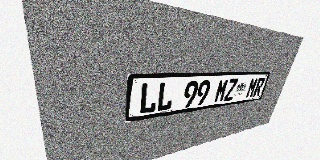9: (182, 80, 200, 108), (194, 80, 212, 106)
L: (138, 82, 159, 114), (156, 82, 175, 112)
M: (213, 79, 229, 103), (245, 78, 259, 98)
R: (252, 77, 266, 97)
Z: (223, 79, 238, 102)
